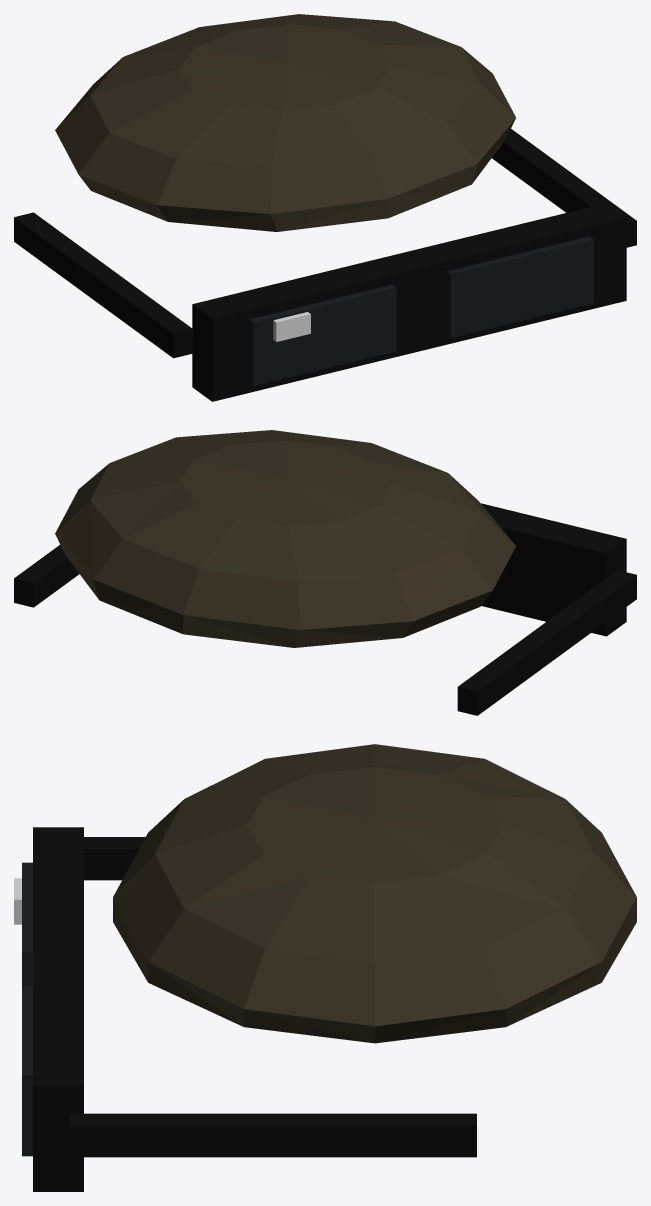
File: shades.glb
3 views of the same model, one above another, from view 1: azimuth 30°, elevation 25°; view 2: azimuth 150°, elevation 25°; view 3: azimuth 270°, elevation 25° (orthographic). The views are drawn at different scales.
Parts seen in each view (by area): view 1: Sunglasses.002; view 2: Sunglasses.002; view 3: Sunglasses.002.
Part boxes in pixels (x1,y1,x2,y2): Sunglasses.002: [14, 14, 636, 401]; Sunglasses.002: [14, 430, 636, 715]; Sunglasses.002: [14, 744, 636, 1191].
Size of the model in its own units: 0.595 by 0.234 by 0.5418.
